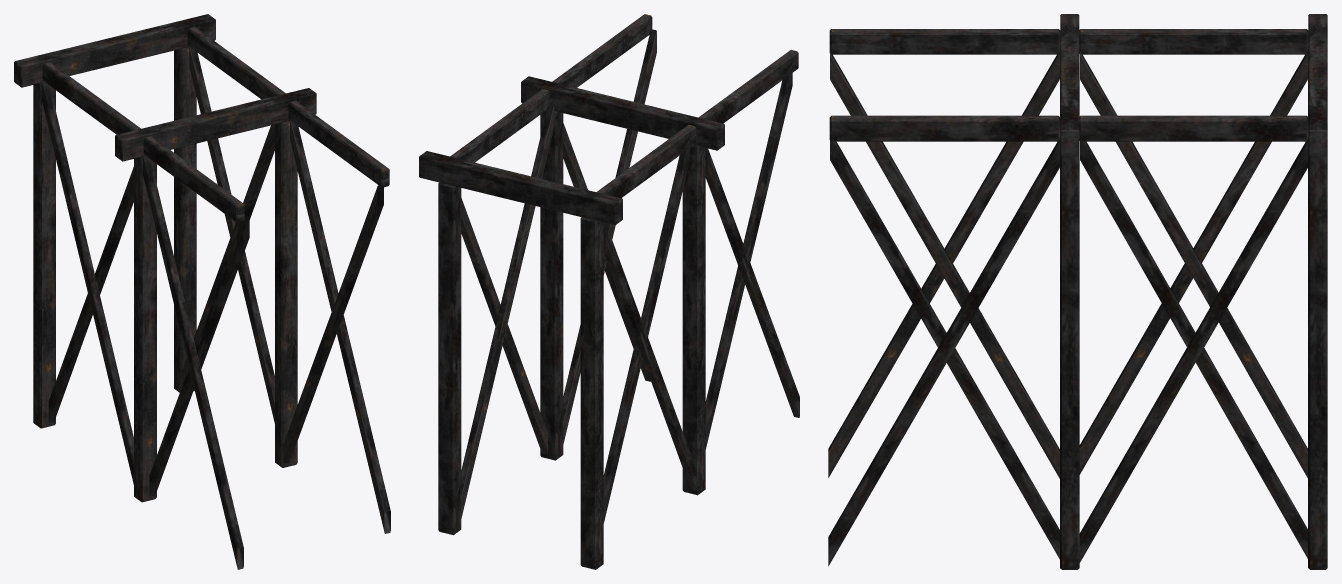
The model's file is Bridge_Supports.fbx.
The picture shows the model from 3 angles, left to right: view 1: azimuth 30°, elevation 25°; view 2: azimuth 150°, elevation 25°; view 3: azimuth 270°, elevation 25°; orthographic projection. The views are drawn at different scales.
Visible parts, largest first — view 1: Bridge_Support:Bridge_Support_0; view 2: Bridge_Support:Bridge_Support_0; view 3: Bridge_Support:Bridge_Support_0.
Boxes of the visible parts, x1,y1,x2,y2 form: Bridge_Support:Bridge_Support_0: [14, 14, 390, 569]; Bridge_Support:Bridge_Support_0: [419, 14, 799, 569]; Bridge_Support:Bridge_Support_0: [828, 14, 1327, 569].
Bounding box in the file's own units: 22.27 × 40.08 × 40.17.
Materials: 1 (1 with a texture image).
